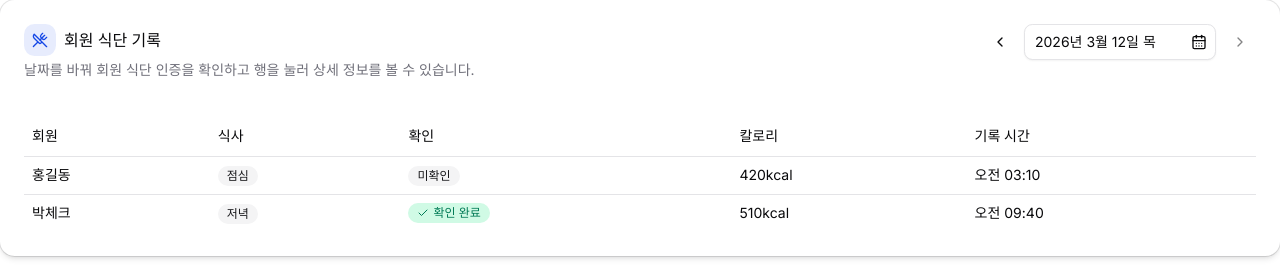
Test: MealMemberTable › 이전 날짜로 이동하면 해당 날짜의 식단 기록을 조회한다
What coordinates should you click on to do the following:
click the button named "이전 식단 날짜"
I would click on:
 (1000, 42)
Its box is 984,26 -> 1016,58.
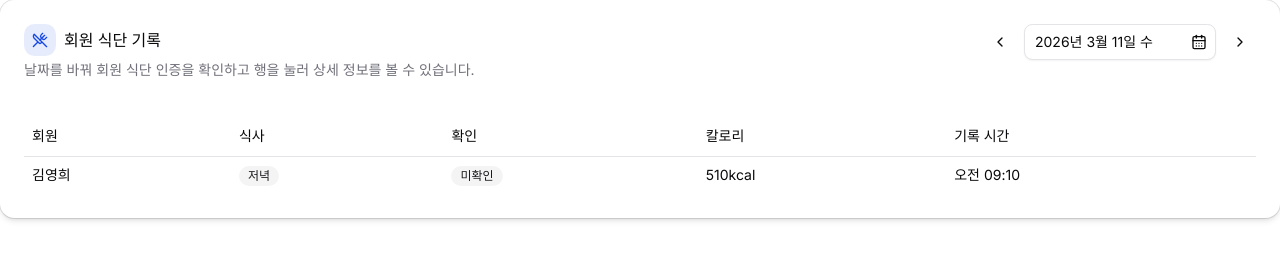
Expected: the text "김영희" is shown, 24,156 -> 231,194
